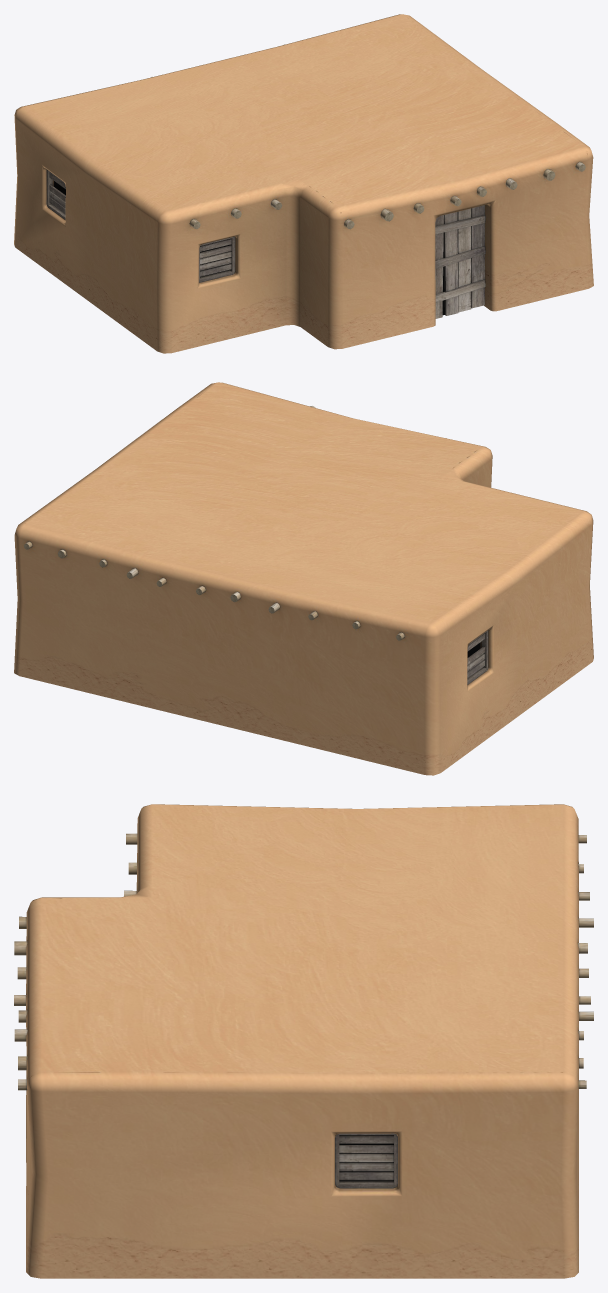
The picture shows the model from 3 angles, top to bottom: view 1: azimuth 30°, elevation 25°; view 2: azimuth 150°, elevation 25°; view 3: azimuth 270°, elevation 25°; orthographic projection. The views are drawn at different scales.
Parts seen in each view (by area): view 1: Building_3.001; view 2: Building_3.001; view 3: Building_3.001.
Part boxes in pixels (bbox=[...]): Building_3.001: bbox=[14, 14, 593, 353]; Building_3.001: bbox=[14, 382, 593, 775]; Building_3.001: bbox=[14, 804, 593, 1278].
Size of the model in its own units: 300 by 100 by 262.
